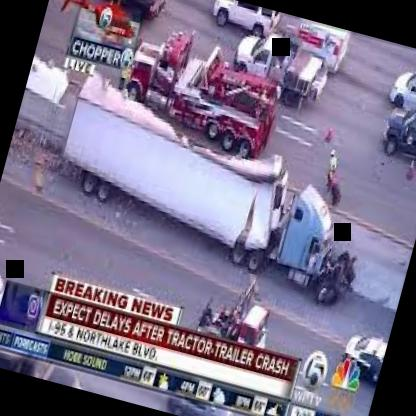accident: (25, 40, 402, 322)
